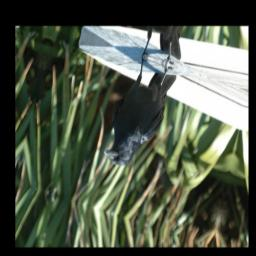Crow: (102, 51, 179, 178)
